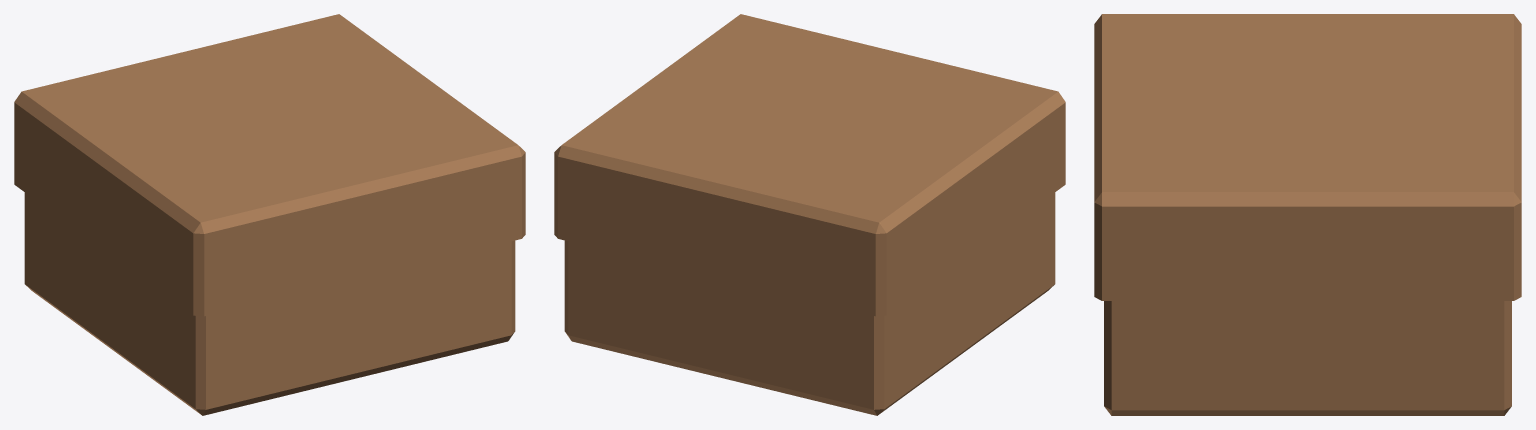
File: Paper_Box.002.fbx
The picture shows the model from 3 angles, left to right: view 1: azimuth 30°, elevation 25°; view 2: azimuth 150°, elevation 25°; view 3: azimuth 270°, elevation 25°; orthographic projection. The views are drawn at different scales.
Visible parts, largest first — view 1: Paper_Box.002; view 2: Paper_Box.002; view 3: Paper_Box.002.
Part boxes in pixels (left/top/right/bottom): Paper_Box.002: left=14, top=14, right=525, bottom=415; Paper_Box.002: left=554, top=14, right=1065, bottom=415; Paper_Box.002: left=1094, top=14, right=1521, bottom=415.
Bounding box in the file's own units: 24.74 × 14.07 × 23.98.
